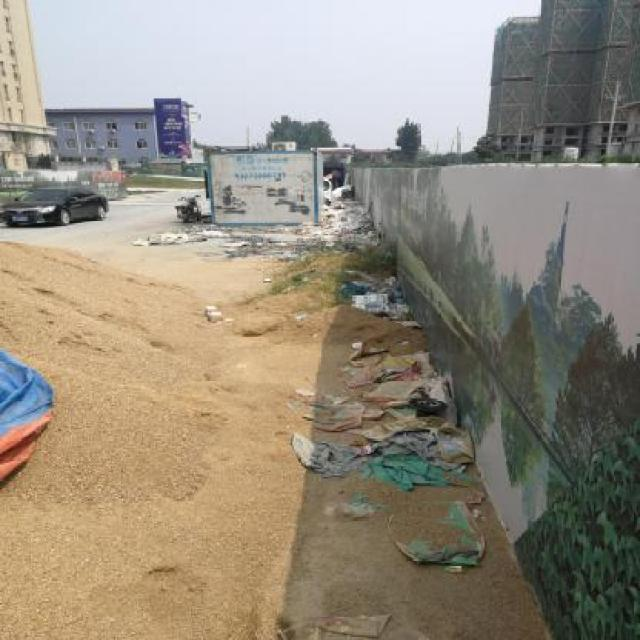garbage: (348, 346, 480, 488), (150, 229, 366, 249), (348, 272, 406, 313)
